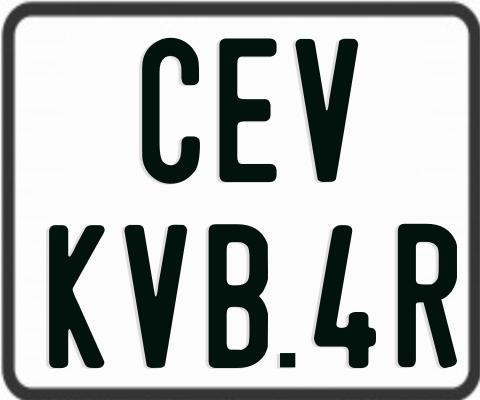4: (311, 223, 378, 369)
B: (206, 221, 269, 371)
C: (142, 36, 206, 182)
E: (218, 39, 278, 187)
K: (47, 225, 104, 372)
R: (396, 224, 456, 373)
V: (121, 223, 185, 369), (294, 36, 357, 183)
